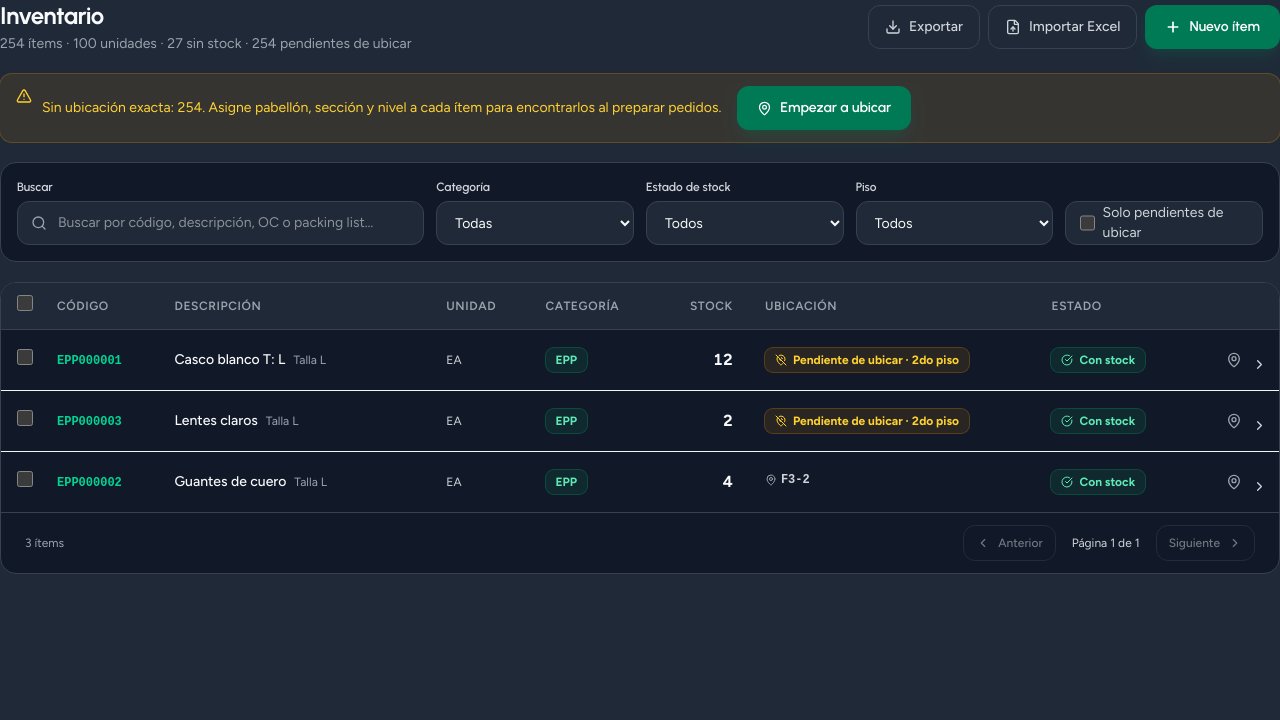
Scenario: InventarioPage — asignar por fila y alta de ítems › el botón de la fila abre la asignación de ESE ítem, sin cola
Expected: the link "EPP000003" is shown, [57, 415, 122, 429]
Click the button named "Asignar ubicación a EPP000003": (1234, 421) [1216, 403, 1252, 439]
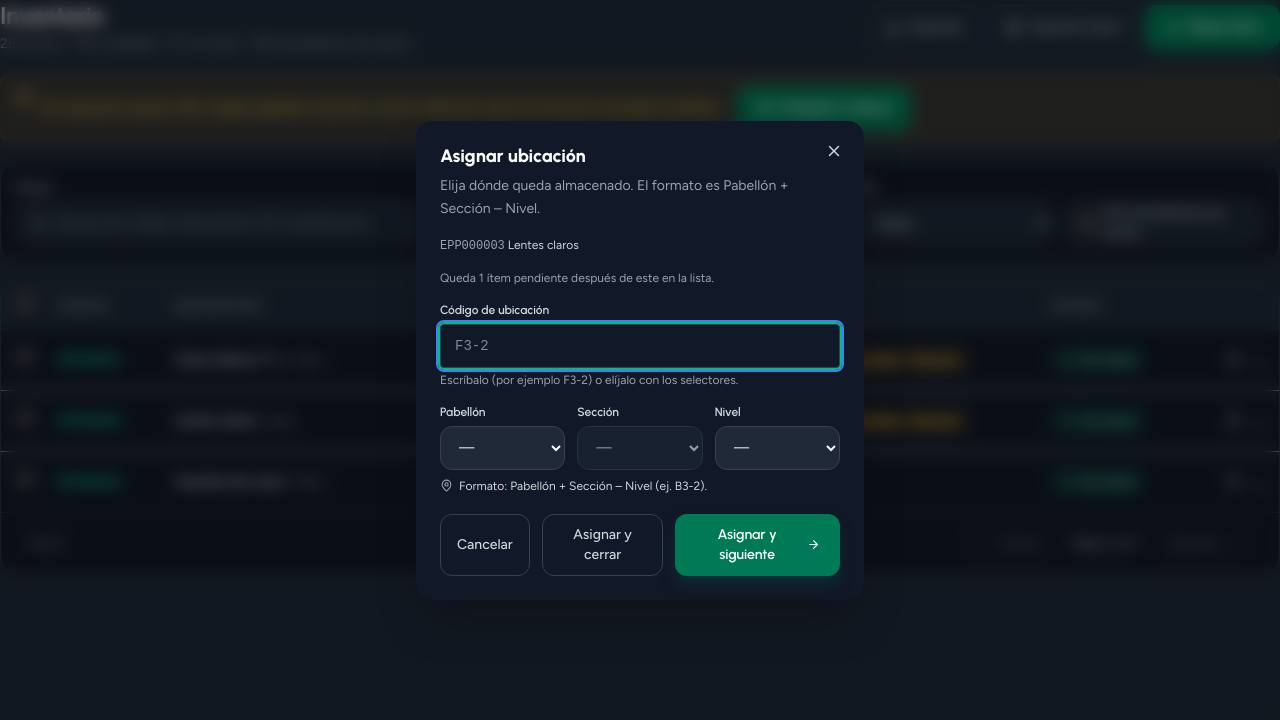
Now the text "EPP000003" is shown, box [440, 238, 505, 252]
